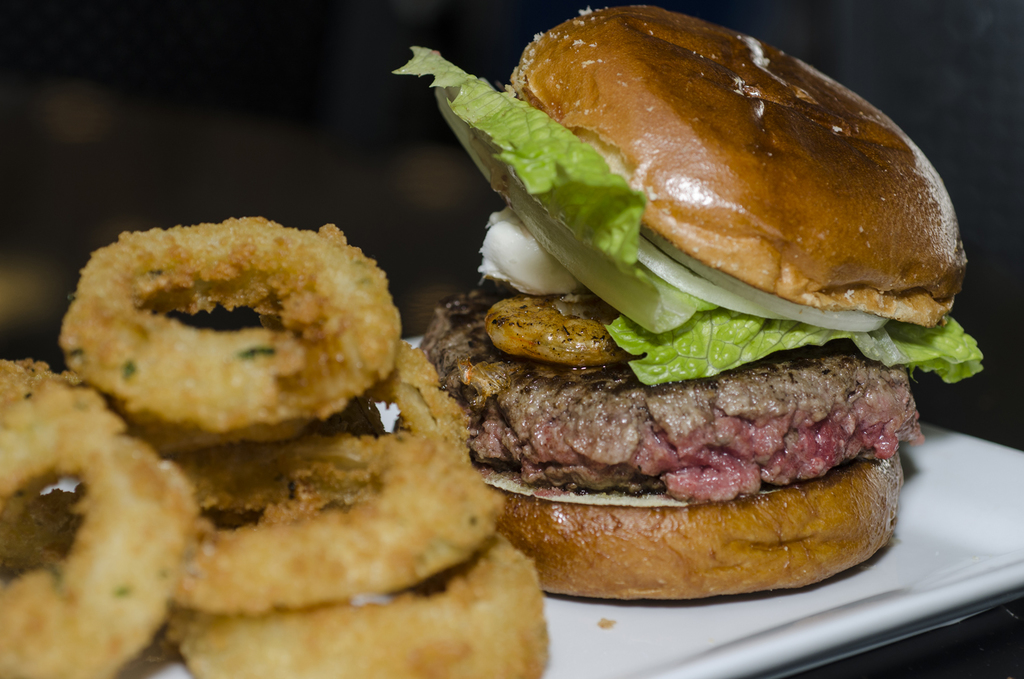Hamburger: (387, 8, 987, 605)
